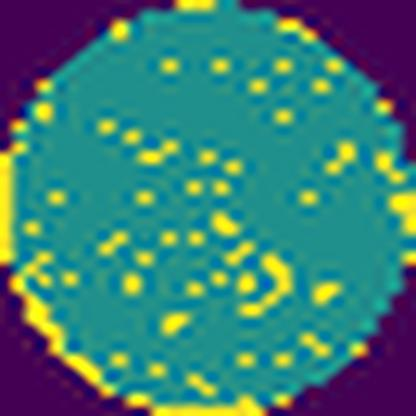Edge-Loc: (9, 253, 118, 396), (126, 386, 270, 416), (0, 147, 16, 266), (388, 189, 415, 239)
